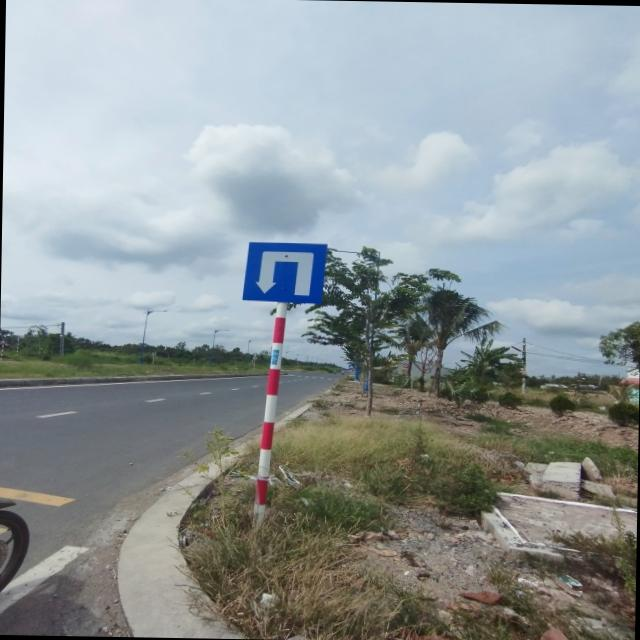Den_Giao_Thong: (242, 241, 328, 304)
